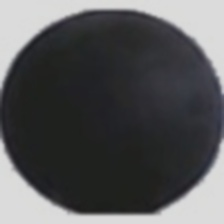grapes: (40, 50, 192, 213)
